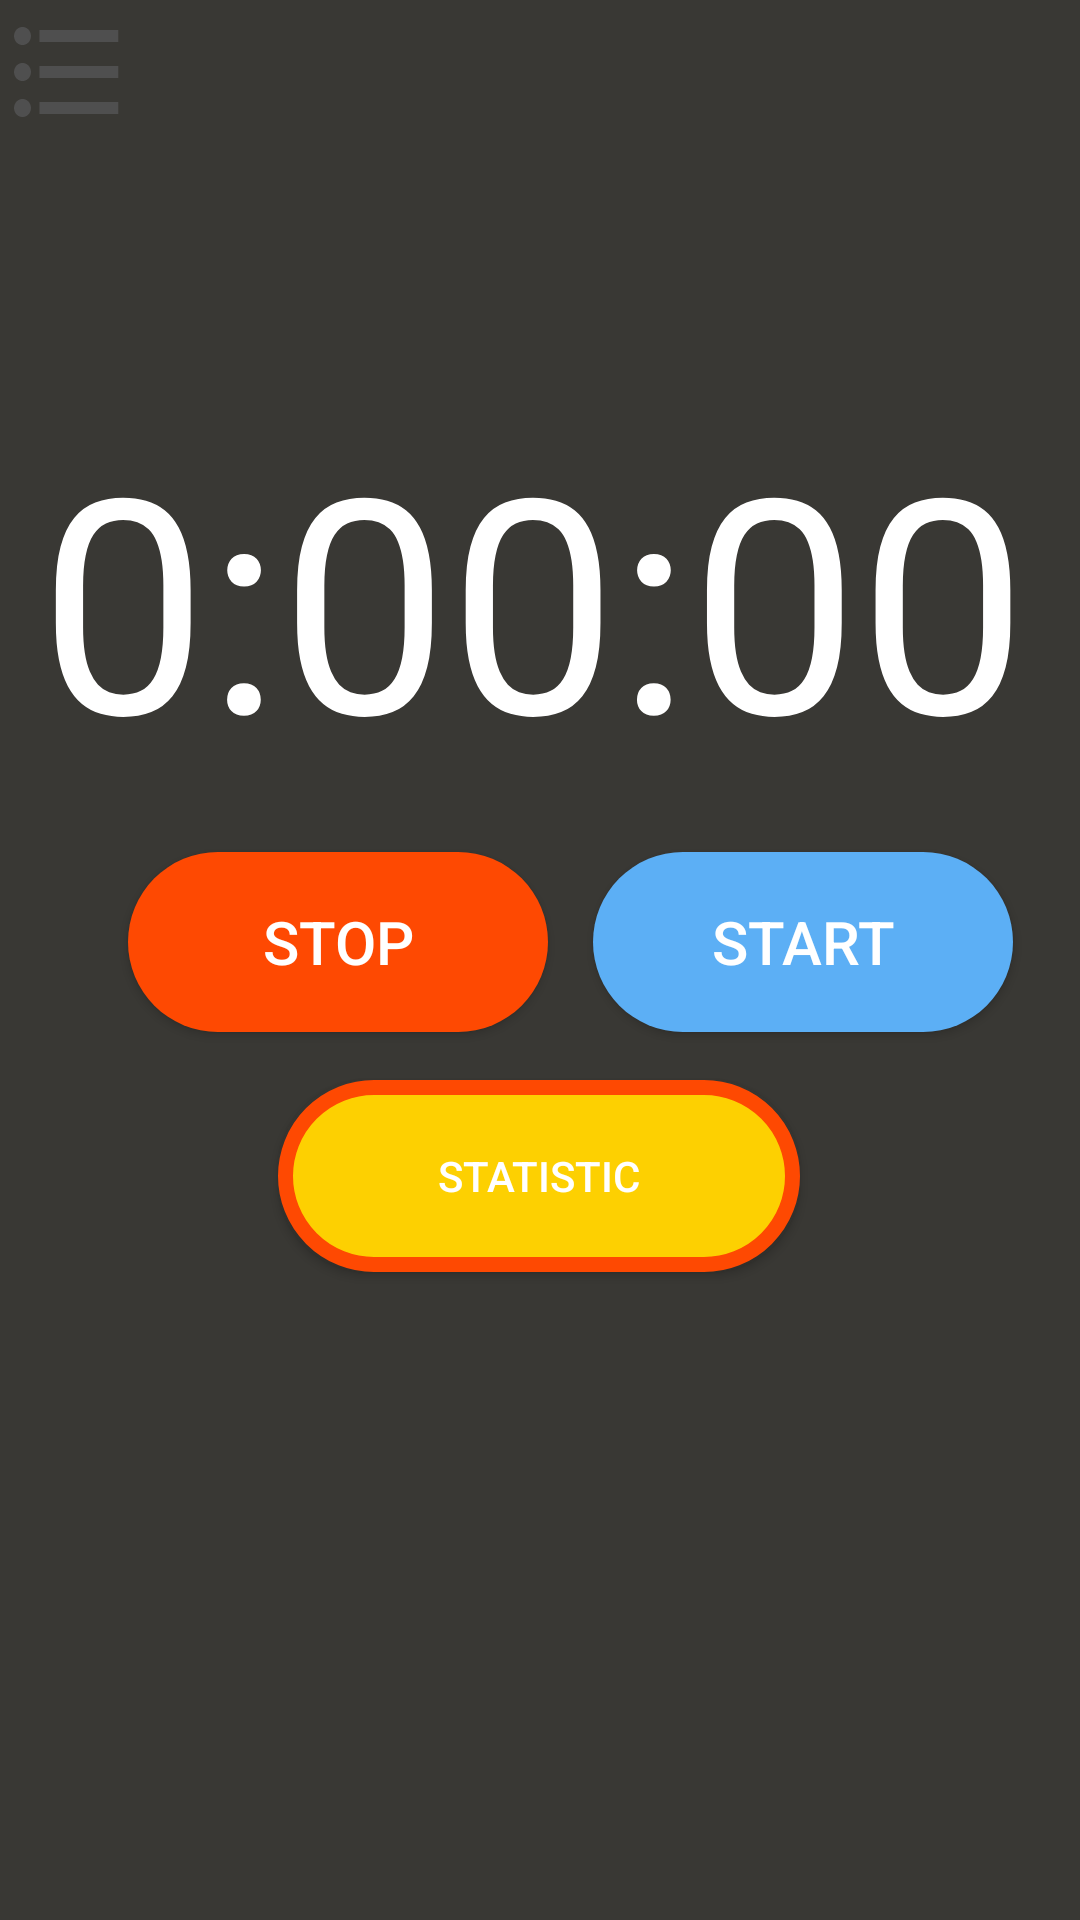

Named icons in this screenshot (1080×1920) and their centers, [x,y]:
format list bulleted: [66,72]
